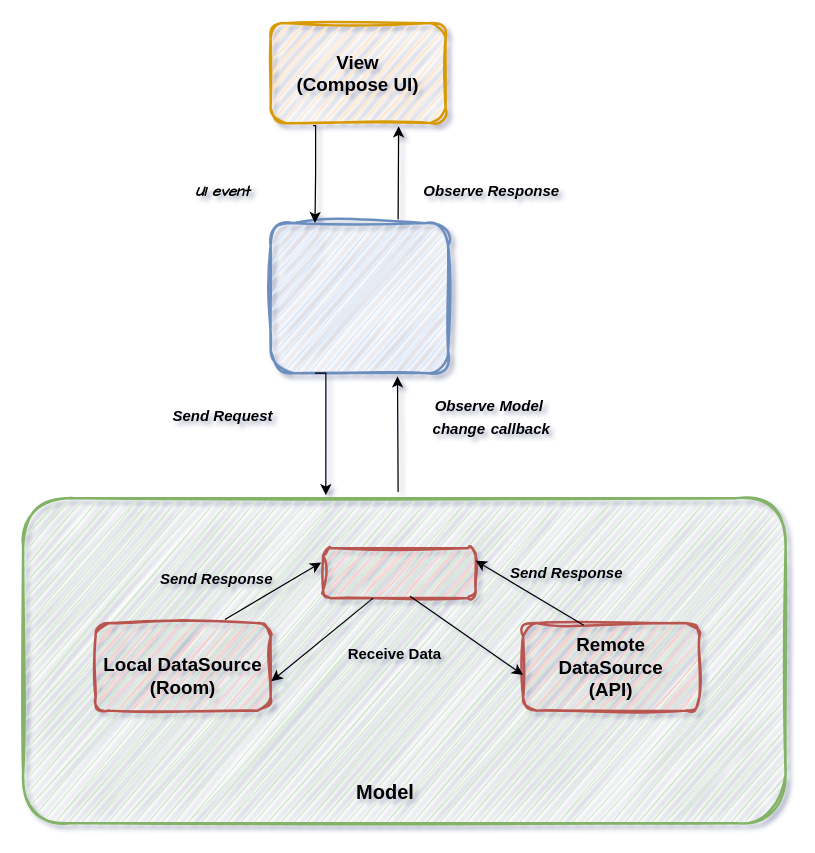
Some shapes in this 815 by 853 pixel diagram are drawn without their labels. The centre of each missing label's shape, as x and y in pixels:
Repositotry: the point at 398,572
ViewModel (Flow): the point at 359,297
